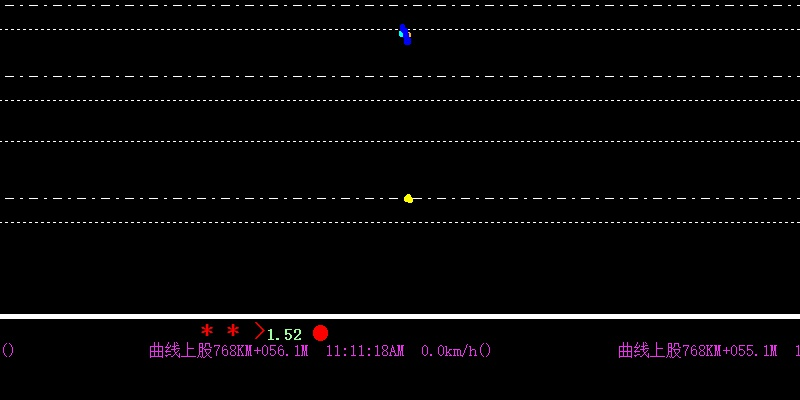circle: (310, 321, 329, 343)
face_s: (398, 18, 409, 46)
star: (225, 323, 241, 339), (199, 321, 214, 335)
